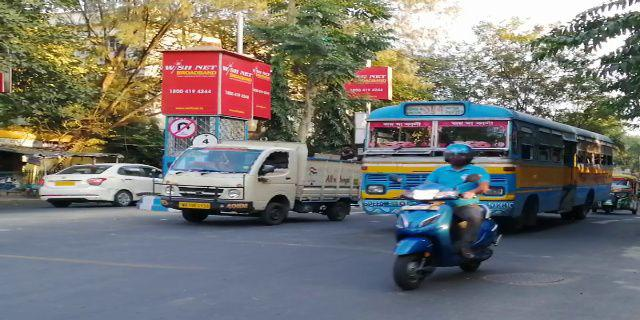Autorickshaw: (608, 171, 637, 218)
Bus: (361, 98, 612, 230)
Car: (36, 159, 158, 208)
Minitruck: (161, 138, 363, 228)
Motorbike: (386, 139, 502, 299)
